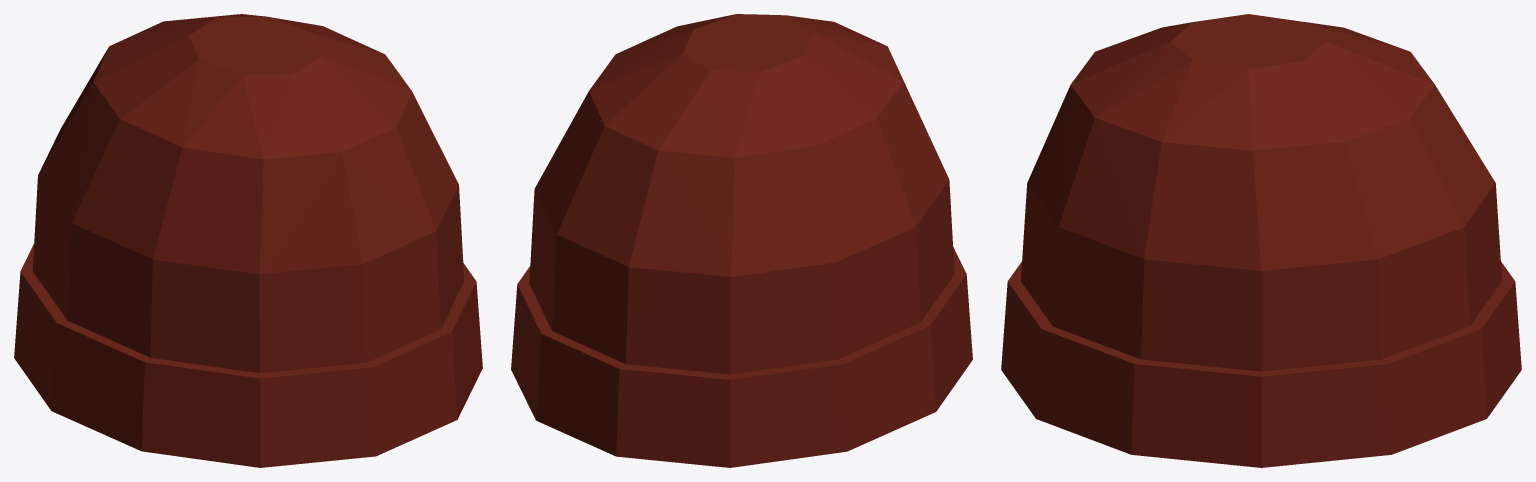
Rendered from beanie.glb.
3 renders of one model, left to right at view 1: azimuth 30°, elevation 25°; view 2: azimuth 150°, elevation 25°; view 3: azimuth 270°, elevation 25°, orthographic. The views are drawn at different scales.
Visible parts, largest first — view 1: Beanie; view 2: Beanie; view 3: Beanie.
Part boxes in pixels (x1=…): Beanie: x1=14, y1=14, x2=482, y2=467; Beanie: x1=511, y1=14, x2=972, y2=467; Beanie: x1=1001, y1=14, x2=1521, y2=467.
Size of the model in its own units: 0.214 by 0.167 by 0.24.
